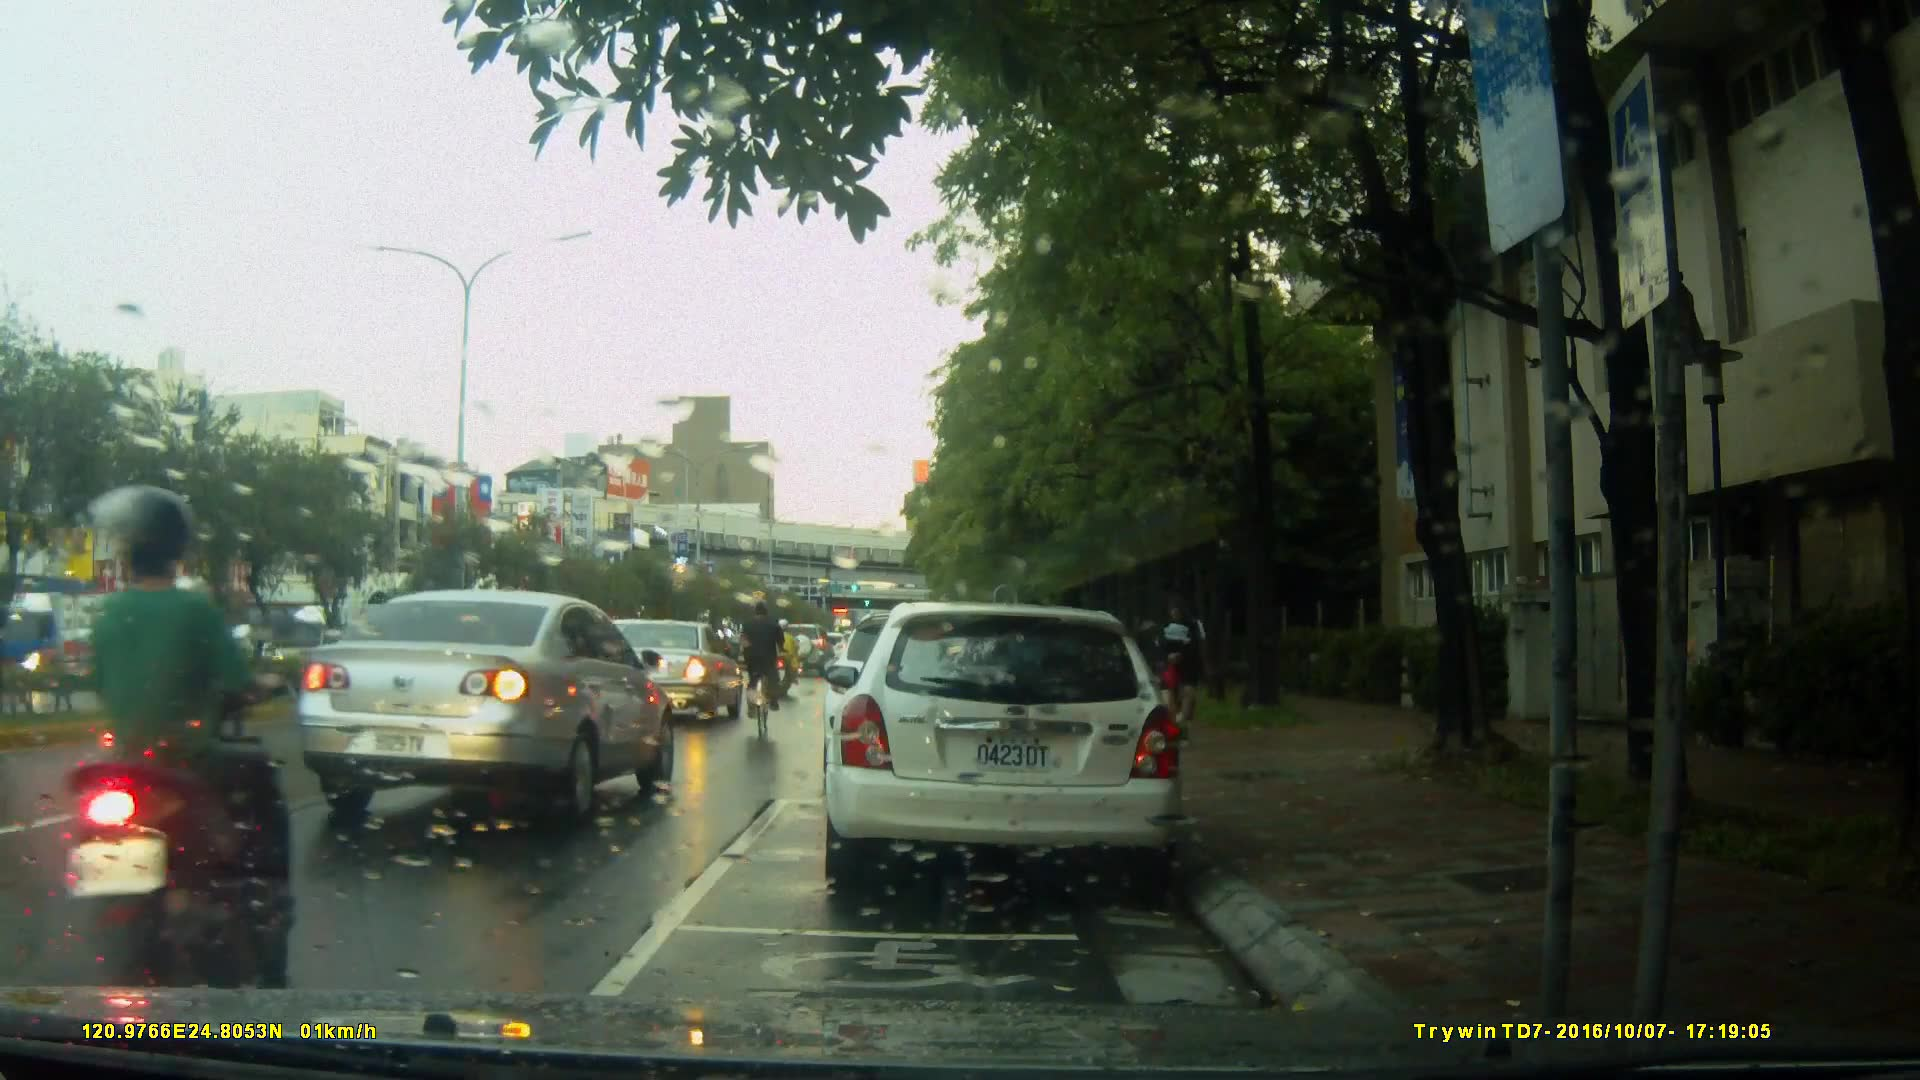pedestrian: (1156, 599, 1207, 734), (1154, 602, 1204, 726)
rider: (78, 494, 289, 1016), (738, 601, 789, 756), (771, 614, 804, 701)
vehicle: (820, 602, 1188, 898), (294, 588, 681, 830), (585, 620, 746, 729), (1, 587, 130, 699), (134, 634, 239, 689)
